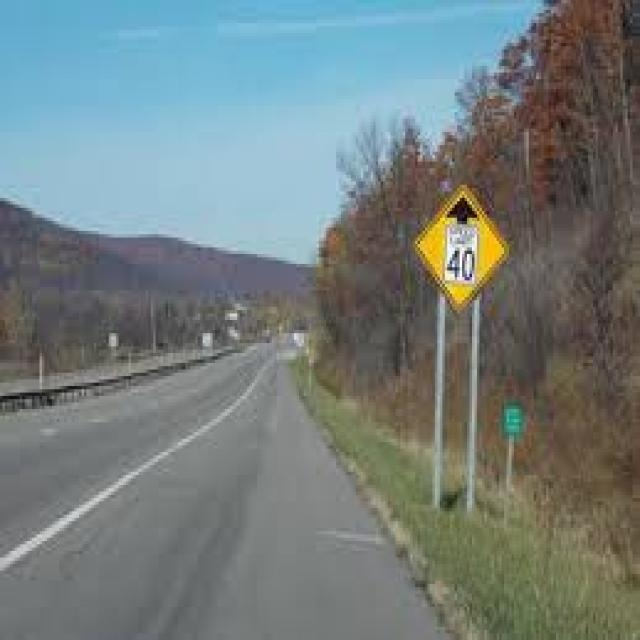speedLimit40: (445, 219, 479, 289)
